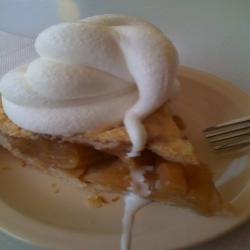apple_pie: (3, 72, 237, 228)
chantilly: (5, 19, 191, 140)
